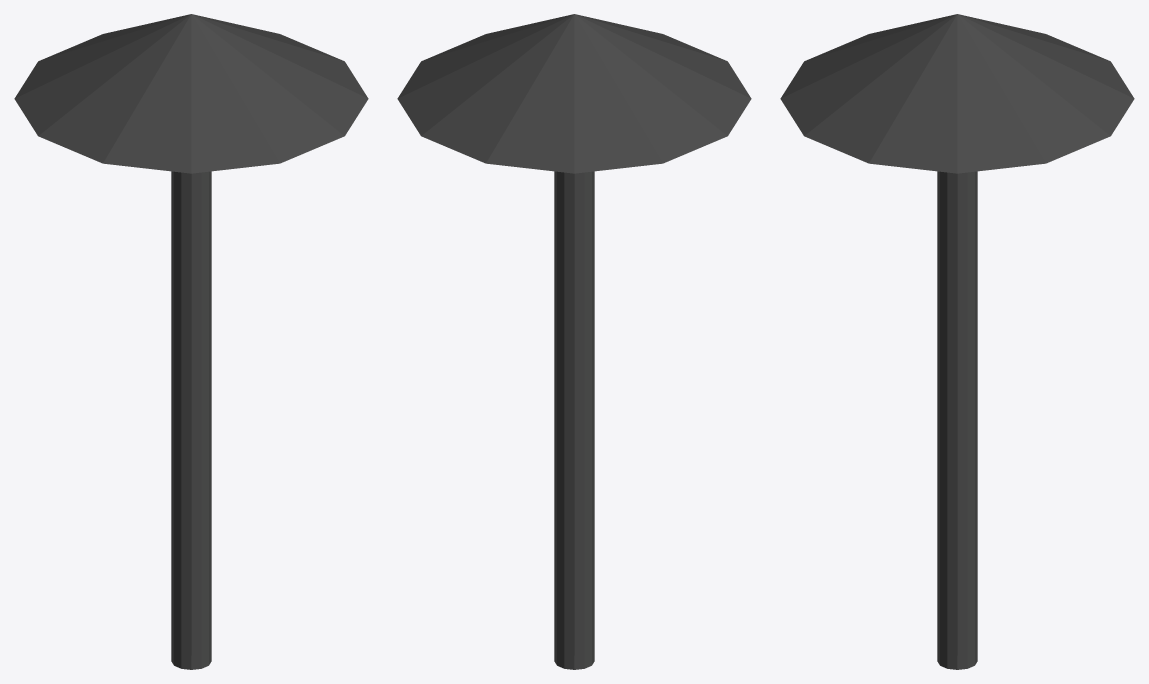
The model's file is Lamp_01.fbx.
The picture shows the model from 3 angles, left to right: view 1: azimuth 30°, elevation 25°; view 2: azimuth 150°, elevation 25°; view 3: azimuth 270°, elevation 25°; orthographic projection.
Visible parts, largest first — view 1: Cylinder; view 2: Cylinder; view 3: Cylinder.
Boxes of the visible parts, x1,y1,x2,y2 form: Cylinder: (14,14,368,669); Cylinder: (397,14,751,669); Cylinder: (780,14,1134,669).
Size of the model in its own units: 1.87 by 3.77 by 1.87.
